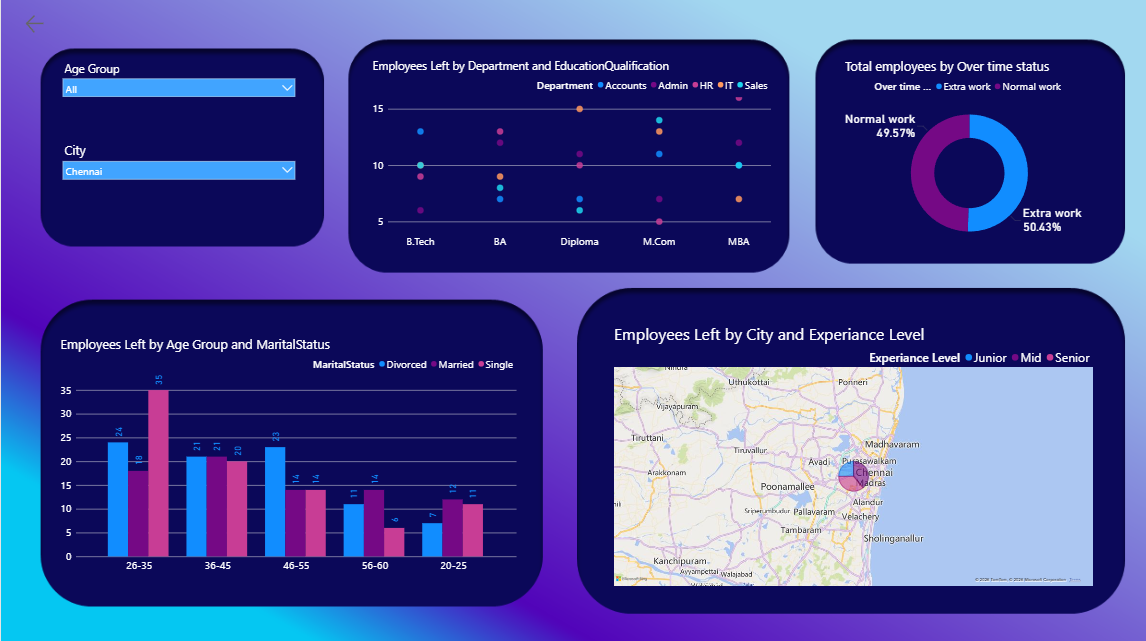

The page's visual inventory and layout, read from the dashboard file:
{"tool":"powerbi","page":{"name":"Detailed","canvas":[2400,1500],"ordinal":1},"visuals":[{"type":"scatterChart","fields":{"Series":["HR_Attrition_Indian_Dataset.Department"],"Y":["HR_Attrition_Indian_Dataset.Employees left"],"X":["HR_Attrition_Indian_Dataset.EducationQualification"]},"box":[768,192,840,408],"z":0},{"type":"donutChart","fields":{"Category":["HR_Attrition_Indian_Dataset.Over time status"],"Y":["HR_Attrition_Indian_Dataset.Total employes"]},"box":[1752,192,528,408],"z":1000},{"type":"clusteredColumnChart","fields":{"Category":["HR_Attrition_Indian_Dataset.Age Group"],"Y":["HR_Attrition_Indian_Dataset.Employees left"],"Series":["HR_Attrition_Indian_Dataset.MaritalStatus"]},"box":[120,768,960,504],"z":2000},{"type":"slicer","fields":{"Values":["HR_Attrition_Indian_Dataset.City"]},"box":[120,360,504,144],"z":3000},{"type":"slicer","fields":{"Values":["HR_Attrition_Indian_Dataset.Age Group"]},"box":[120,192,504,168],"z":4000},{"type":"map","fields":{"Category":["HR_Attrition_Indian_Dataset.City"],"Size":["HR_Attrition_Indian_Dataset.Employees left"],"Series":["HR_Attrition_Indian_Dataset.Experiance Level"]},"box":[1272,744,1008,552],"z":5000},{"type":"actionButton","box":[48,96,384,48],"z":6000}]}

Visuals, with their boxes on the page's 2400x1500 design canvas (x1, y1, x2, y2). These are canvas units, not pixel positions in the 1146x641 screenshot, which may show the page scaled, cropped or inside an application window:
scatterChart - HR_Attrition_Indian_Dataset.Department x HR_Attrition_Indian_Dataset.Employees left: [left=768, top=192, right=1608, bottom=600]
donutChart - HR_Attrition_Indian_Dataset.Over time status x HR_Attrition_Indian_Dataset.Total employes: [left=1752, top=192, right=2280, bottom=600]
clusteredColumnChart - HR_Attrition_Indian_Dataset.Age Group x HR_Attrition_Indian_Dataset.Employees left: [left=120, top=768, right=1080, bottom=1272]
slicer - HR_Attrition_Indian_Dataset.City: [left=120, top=360, right=624, bottom=504]
slicer - HR_Attrition_Indian_Dataset.Age Group: [left=120, top=192, right=624, bottom=360]
map - HR_Attrition_Indian_Dataset.City x HR_Attrition_Indian_Dataset.Employees left: [left=1272, top=744, right=2280, bottom=1296]
actionButton: [left=48, top=96, right=432, bottom=144]
